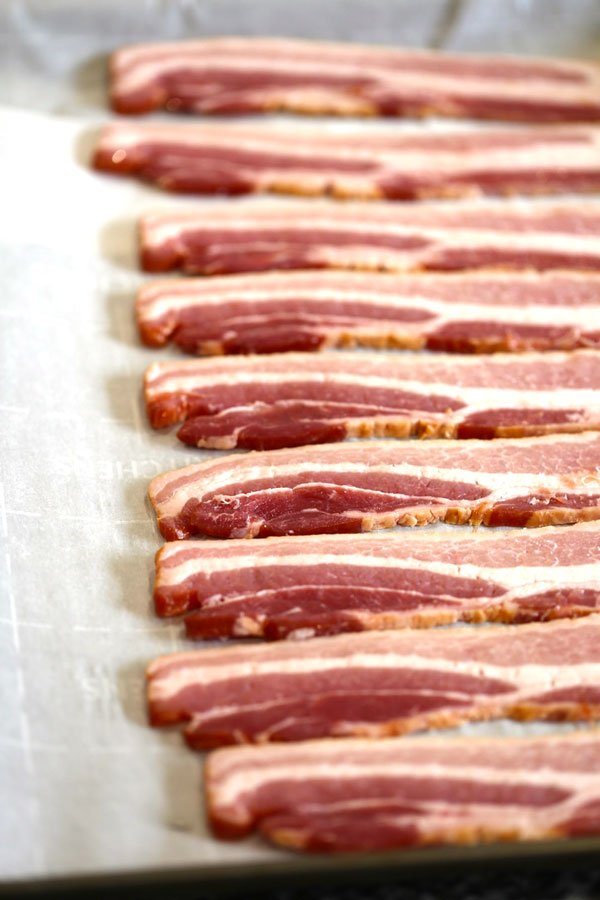bacon: (114, 34, 600, 855)
